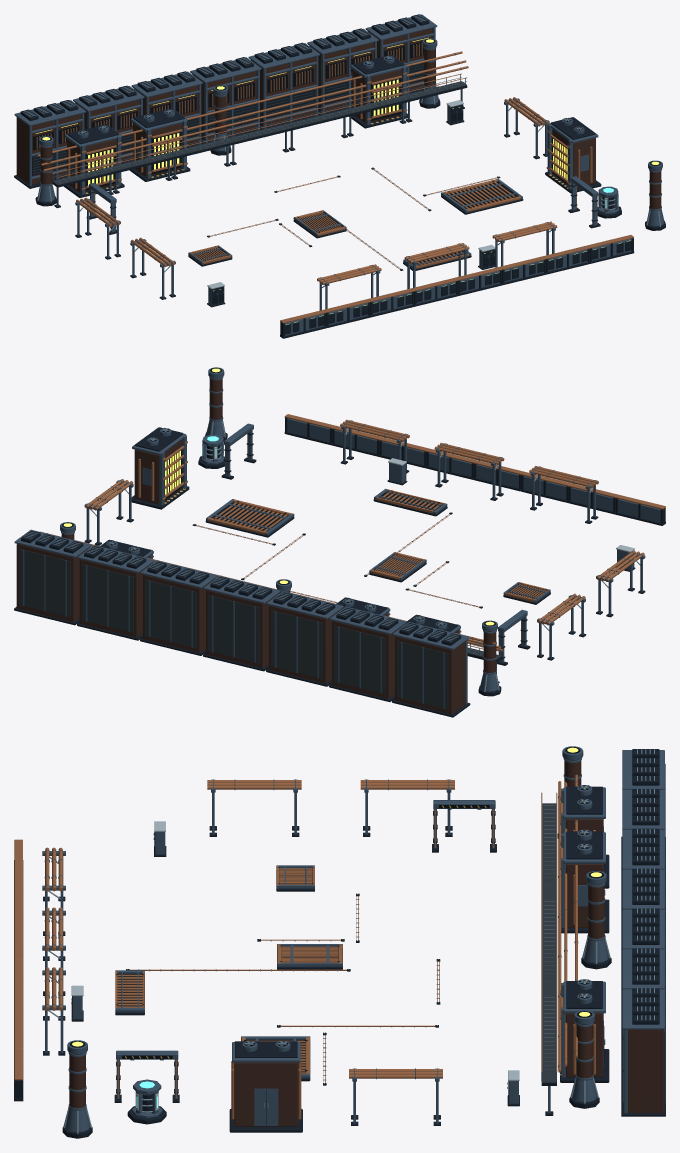
The model's file is cinderworks_dressing.fbx.
The picture shows the model from 3 angles, top to bottom: view 1: azimuth 30°, elevation 25°; view 2: azimuth 150°, elevation 25°; view 3: azimuth 270°, elevation 25°; orthographic projection. The views are drawn at different scales.
Parts seen in each view (by area): view 1: cinderworks_dressing_Geometry; view 2: cinderworks_dressing_Geometry; view 3: cinderworks_dressing_Geometry.
Boxes of the visible parts, x1,y1,x2,y2 form: cinderworks_dressing_Geometry: (14, 14, 665, 338); cinderworks_dressing_Geometry: (14, 367, 665, 717); cinderworks_dressing_Geometry: (14, 746, 665, 1138).
Bounding box in the file's own units: 62.29 × 8.76 × 55.3.
